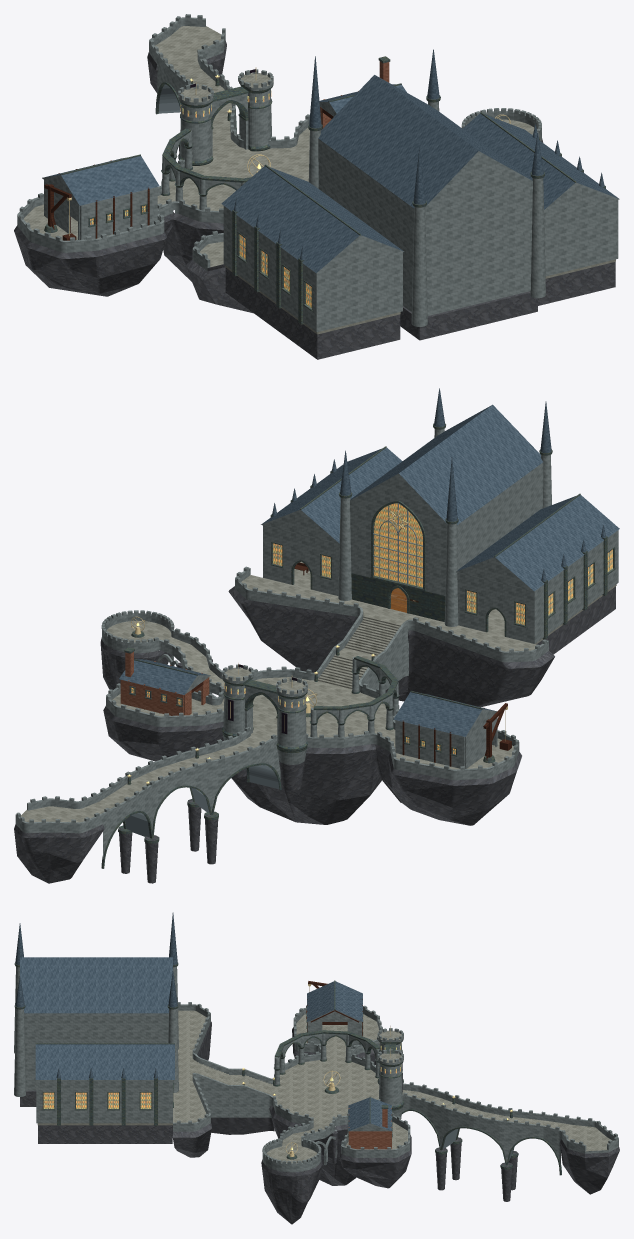
File: chapter-map.glb
The picture shows the model from 3 angles, top to bottom: view 1: azimuth 30°, elevation 25°; view 2: azimuth 150°, elevation 25°; view 3: azimuth 270°, elevation 25°; orthographic projection. The views are drawn at different scales.
Parts seen in each view (by area): view 1: 대서고 · wall (×2), 대서고 · roof (×2), 서고동 뒷벽 (×2), 동쪽 원본 서고동 · roof, 동쪽 하역 창고 · basalt, 동쪽 원본 서고동 · basalt, 서쪽 열람동 · roof, 서고 모서리탑 (×3), 천구의 광장, 본관 후벽, 동쪽 하역 창고 · roof, 대서고 · basalt (+17 smaller); view 2: 대계단과 상부 단구 · basalt, 대서고 · roof, 대서고 · wall (×2), 천구 광장과 원형 관문 · basalt, 동쪽 원본 서고동 · roof, 동쪽 하역 창고 · basalt, 도착섬과 세 아치의 석교 · basalt (×2), 천구의 광장, 서쪽 열람동 · roof, 서쪽 제본 공방 · basalt, 대서고 · roseLight, 대서고 앞 단구 (+20 smaller); view 3: 대서고 · roof, 서쪽 열람동 · roof, 대서고 · wall, 천구의 광장, 서고동 옆벽 (×4), 서쪽 열람동 · basalt, 도착섬과 세 아치의 석교 · basalt (×2), 대서고 앞 단구, 서쪽 별길과 천문대 · basalt, 대계단과 상부 단구 · basalt (×2), 도착섬과 세 아치의 석교 · wall (×3), 대계단과 상부 단구 · wall (×2) (+10 smaller).
Part boxes in pixels (<box>): 대서고 · wall (×2): <box>318,139,532,287</box>; 대서고 · roof (×2): <box>309,56,532,208</box>; 서고동 뒷벽 (×2): <box>315,200,618,332</box>; 동쪽 원본 서고동 · roof: <box>221,166,403,273</box>; 동쪽 하역 창고 · basalt: <box>14,213,174,296</box>; 동쪽 원본 서고동 · basalt: <box>225,268,400,359</box>; 서쪽 열람동 · roof: <box>462,113,618,209</box>; 서고 모서리탑 (×3): <box>308,130,545,326</box>; 천구의 광장: <box>160,146,309,210</box>; 본관 후벽: <box>427,262,531,315</box>; 동쪽 하역 창고 · roof: <box>45,156,159,205</box>; 대서고 · basalt: <box>400,291,537,340</box>; 대계단과 상부 단구 · basalt: <box>228,586,554,707</box>; 대서고 · roof: <box>350,404,542,524</box>; 대서고 · wall (×2): <box>350,462,543,595</box>; 천구 광장과 원형 관문 · basalt: <box>223,740,381,824</box>; 동쪽 원본 서고동 · roof: <box>456,495,619,591</box>; 동쪽 하역 창고 · basalt: <box>374,744,521,825</box>; 도착섬과 세 아치의 석교 · basalt (×2): <box>14,799,218,883</box>; 천구의 광장: <box>217,677,394,739</box>; 서쪽 열람동 · roof: <box>261,447,402,543</box>; 서쪽 제본 공방 · basalt: <box>103,706,223,761</box>; 대서고 · roseLight: <box>374,503,422,587</box>; 대서고 앞 단구: <box>241,575,536,651</box>; 대서고 · roof: <box>20,957,172,1013</box>; 서쪽 열람동 · roof: <box>35,1044,174,1079</box>; 대서고 · wall: <box>24,1013,168,1069</box>; 천구의 광장: <box>273,1058,379,1123</box>; 서고동 옆벽 (×4): <box>54,1080,170,1123</box>; 서쪽 열람동 · basalt: <box>38,1125,172,1143</box>; 도착섬과 세 아치의 석교 · basalt (×2): <box>435,1137,619,1194</box>; 대서고 앞 단구: <box>173,1010,206,1122</box>; 서쪽 별길과 천문대 · basalt: <box>261,1159,322,1224</box>; 대계단과 상부 단구 · basalt (×2): <box>172,1021,274,1157</box>; 도착섬과 세 아치의 석교 · wall (×3): <box>427,1108,618,1166</box>; 대계단과 상부 단구 · wall (×2): <box>197,1079,271,1117</box>.
Bounding box in the file's own units: 69.56 × 47 × 103.
98 materials, 54 textured.
